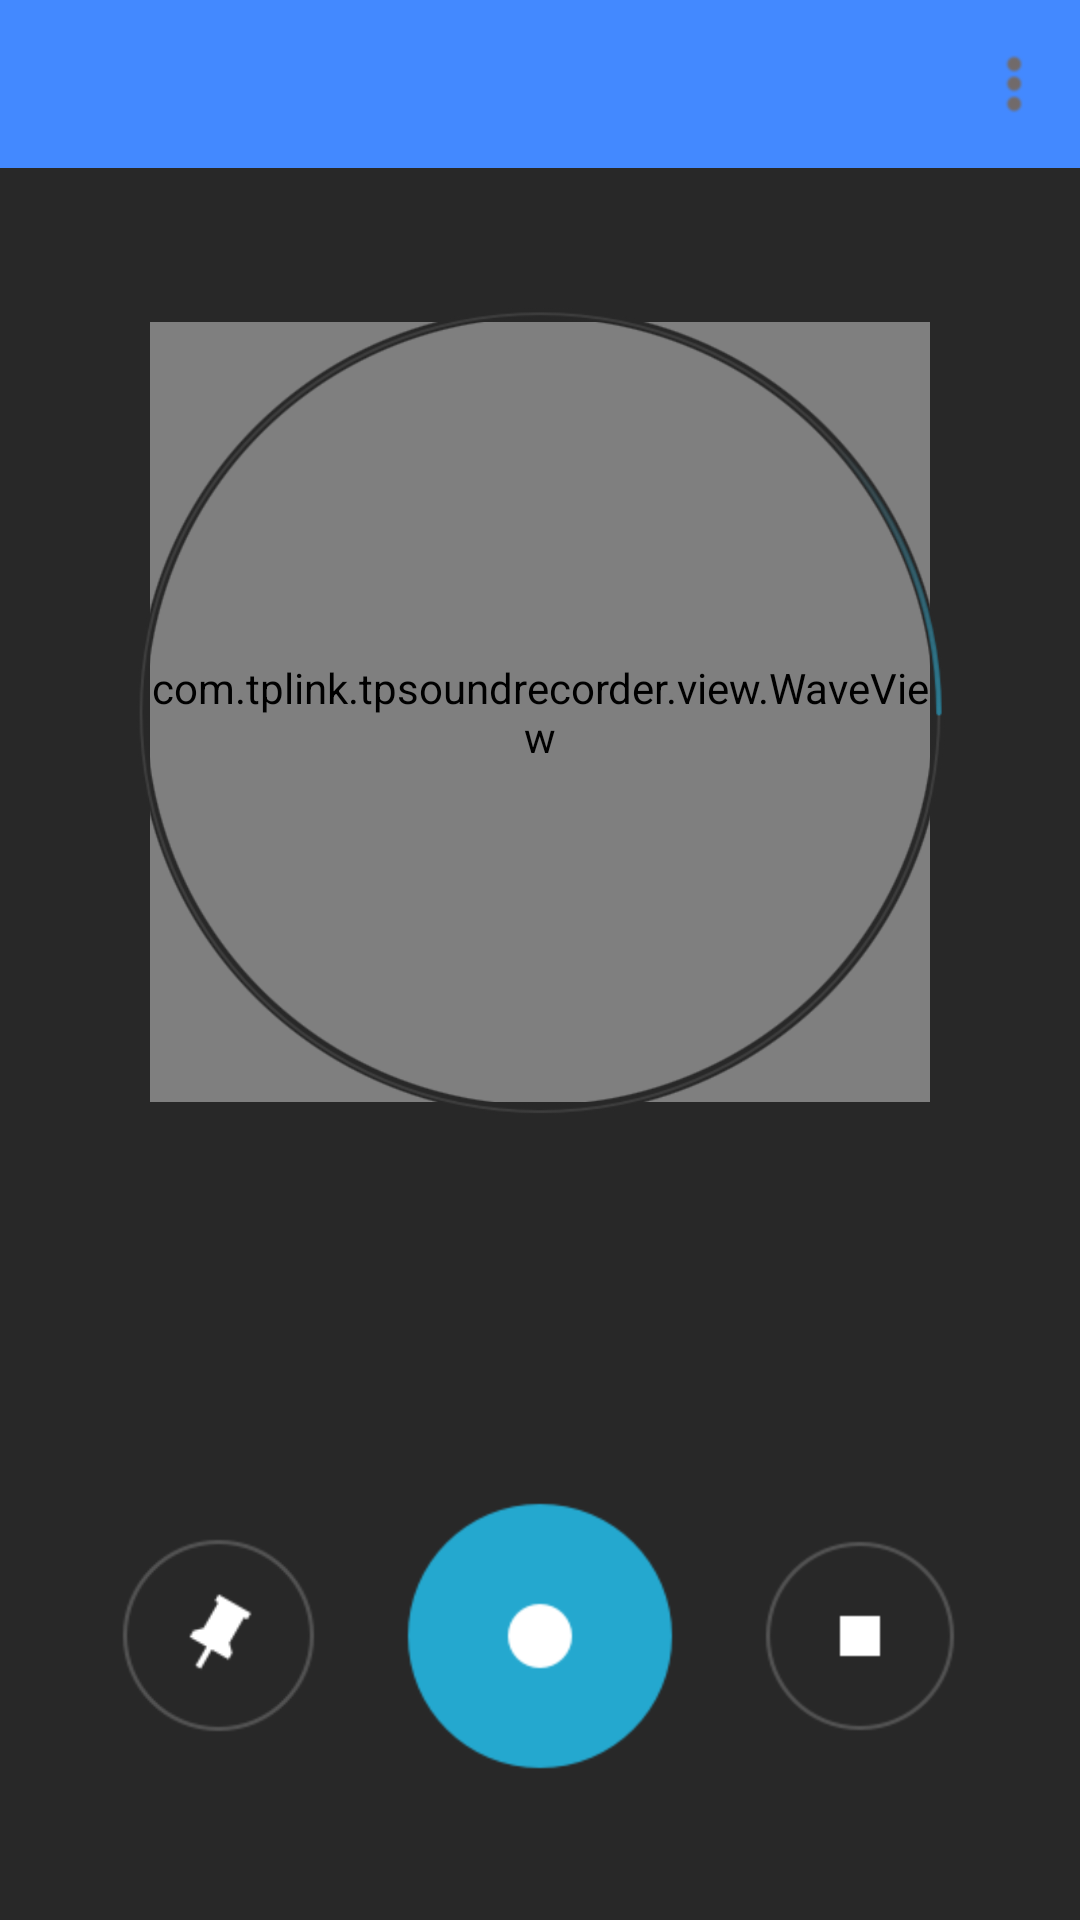

Named icons in this screenshot (1080px×1920px) and their bounding boxes, (x1,y1,x2,y2):
more: (1006,56,1022,112)
start recording: (407,1503,673,1769)
